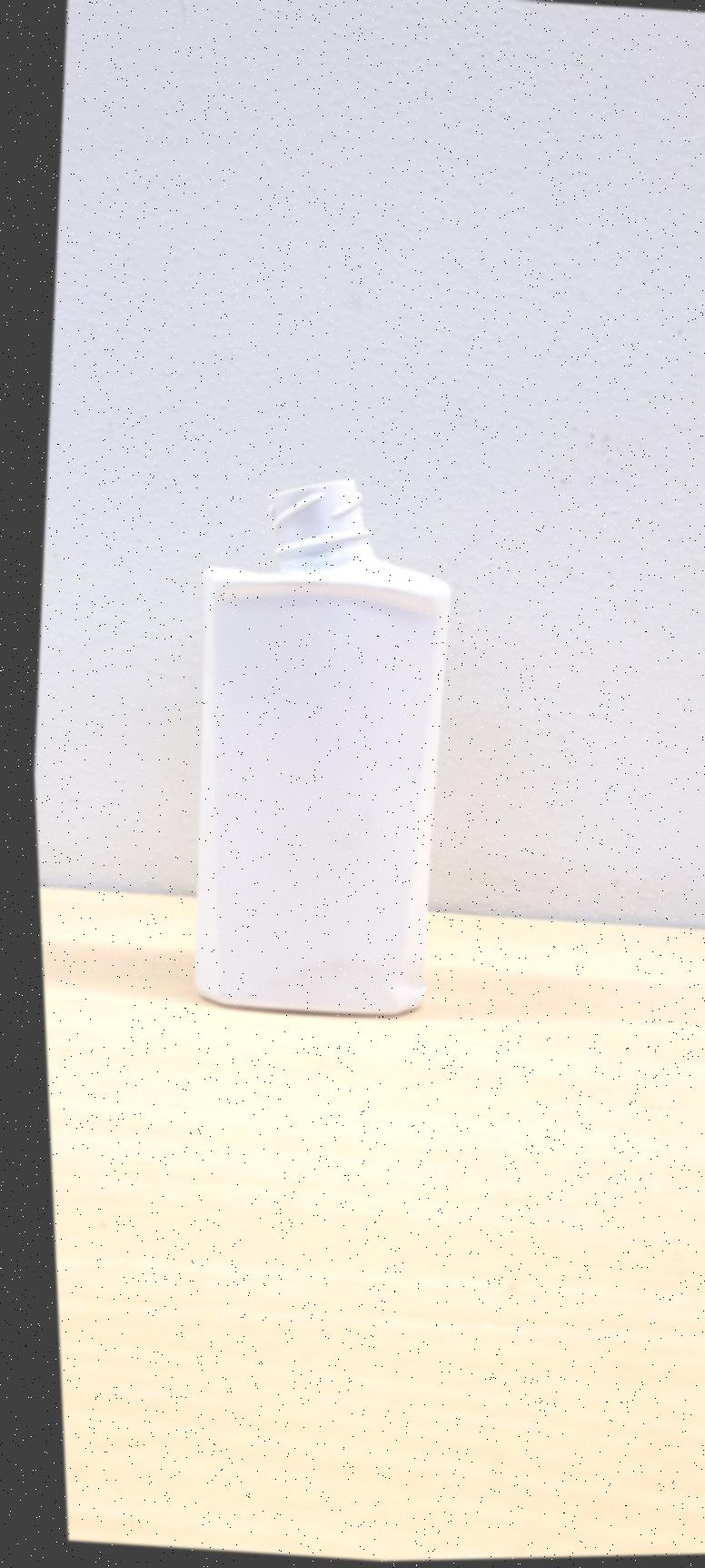bottle: (194, 477, 449, 1015)
